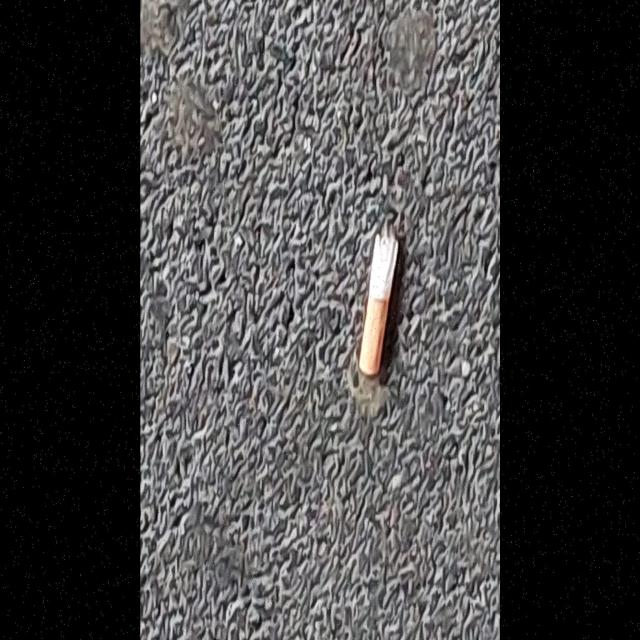other waste: (357, 233, 400, 377)
